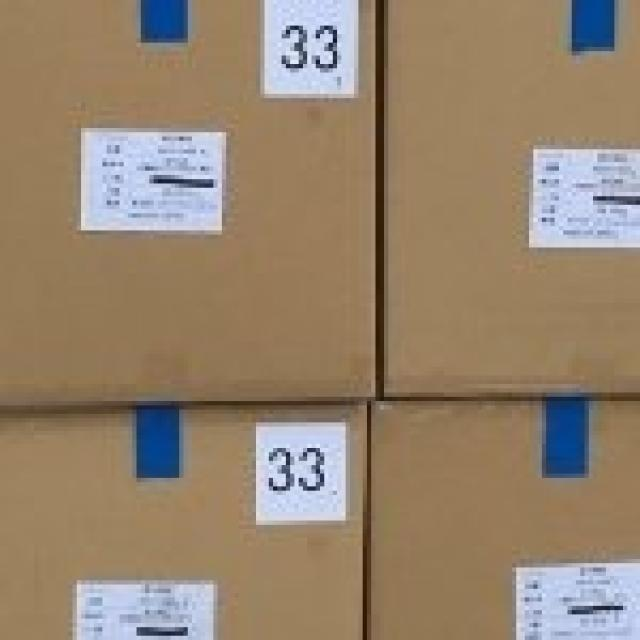box: (0, 0, 381, 418), (381, 0, 636, 397), (0, 402, 371, 636), (368, 397, 636, 635)
